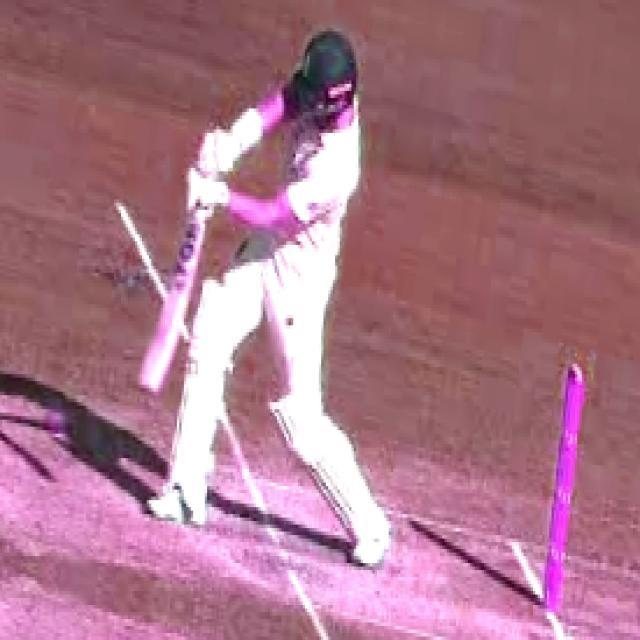bat: (128, 204, 212, 402)
toe: (132, 379, 164, 400)
